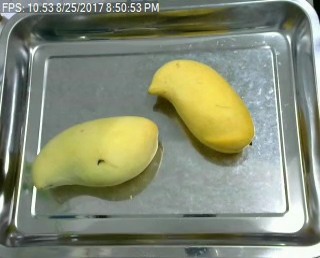Mango: (146, 56, 263, 160), (28, 110, 165, 195)
